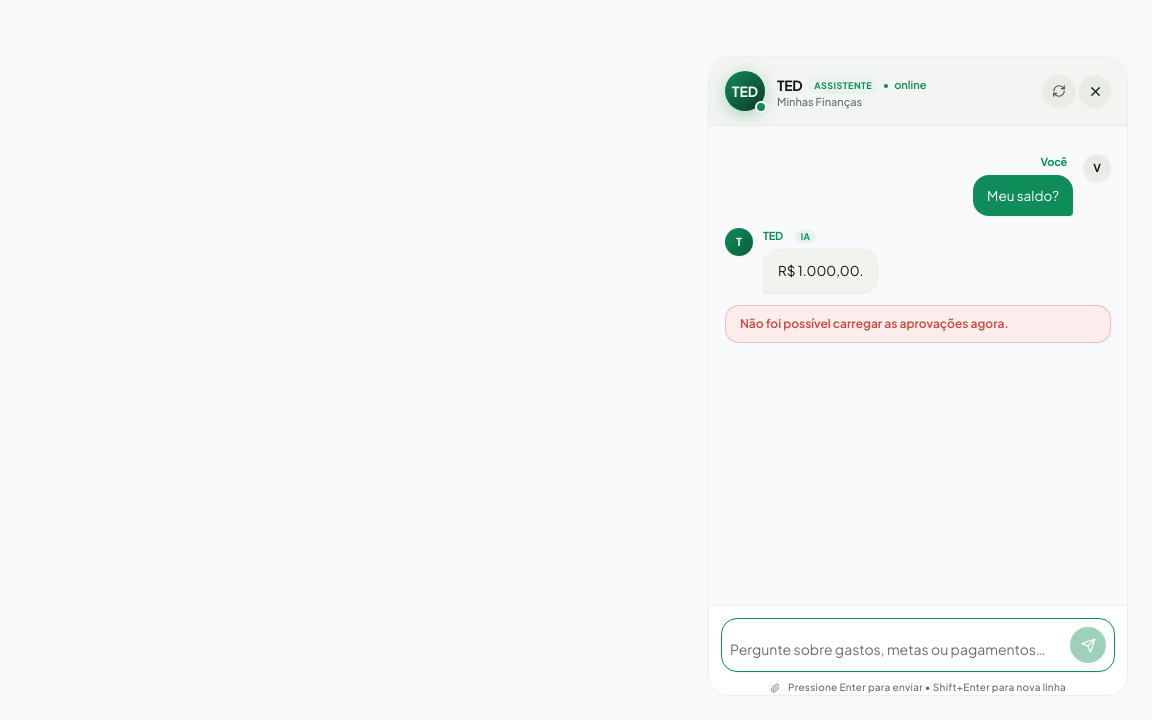
it: TedChat — sessão renovável e memória (Parte B) › exibe toast discreto quando o TED memoriza algo no turno
Expected: the text "Meu saldo?" is shown, [987, 184, 1059, 206]
Type "Lembre que prefiro resumos curtos" into the text box with placeholder "Pergunte sobre gastos, metas ou pagamentos…" at coordinates (897, 649), box [730, 635, 1064, 663]
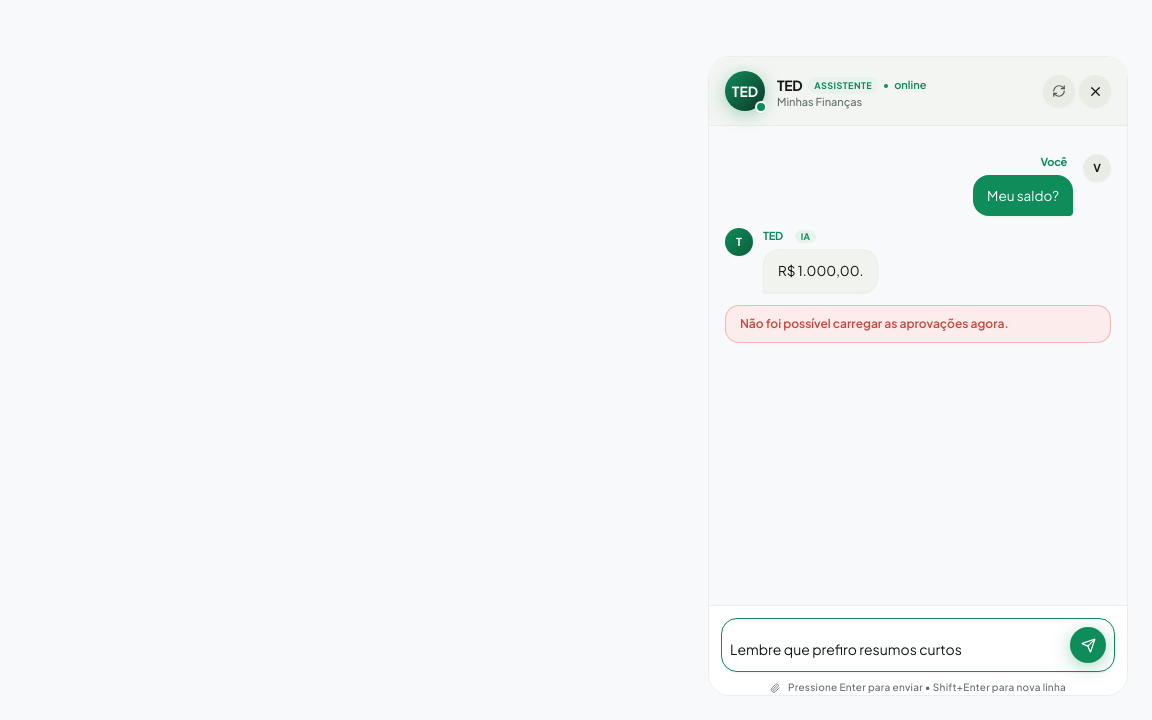
Click the button named "enviar mensagem" at coordinates (1088, 645), box [1070, 627, 1106, 663]
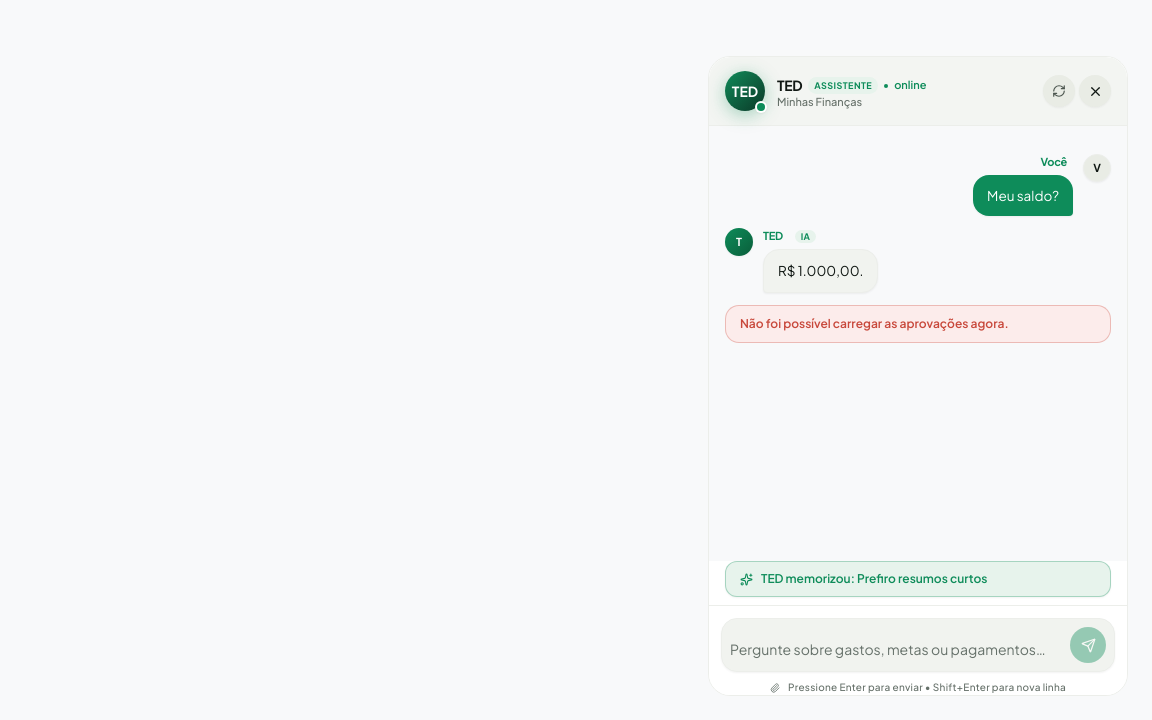
Expected: the message "TED memorizou: Prefiro resumos curtos" is shown, [725, 561, 1111, 597]
